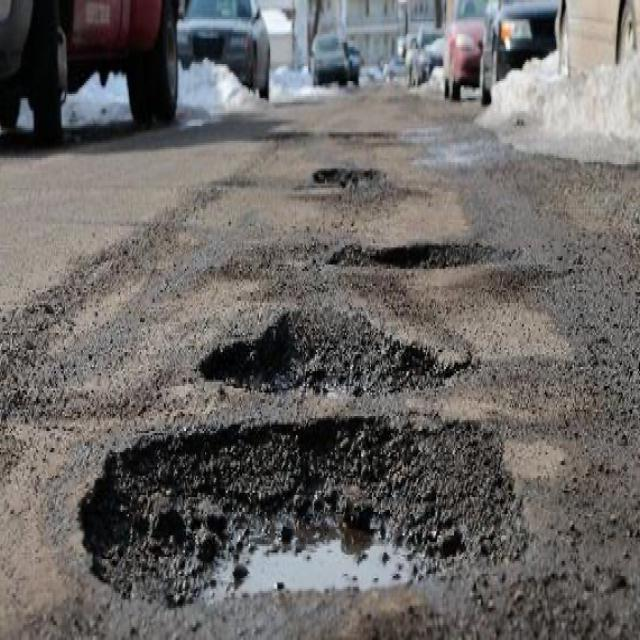pothole: (72, 412, 530, 611), (195, 303, 477, 401), (326, 239, 520, 271), (312, 162, 380, 190)
